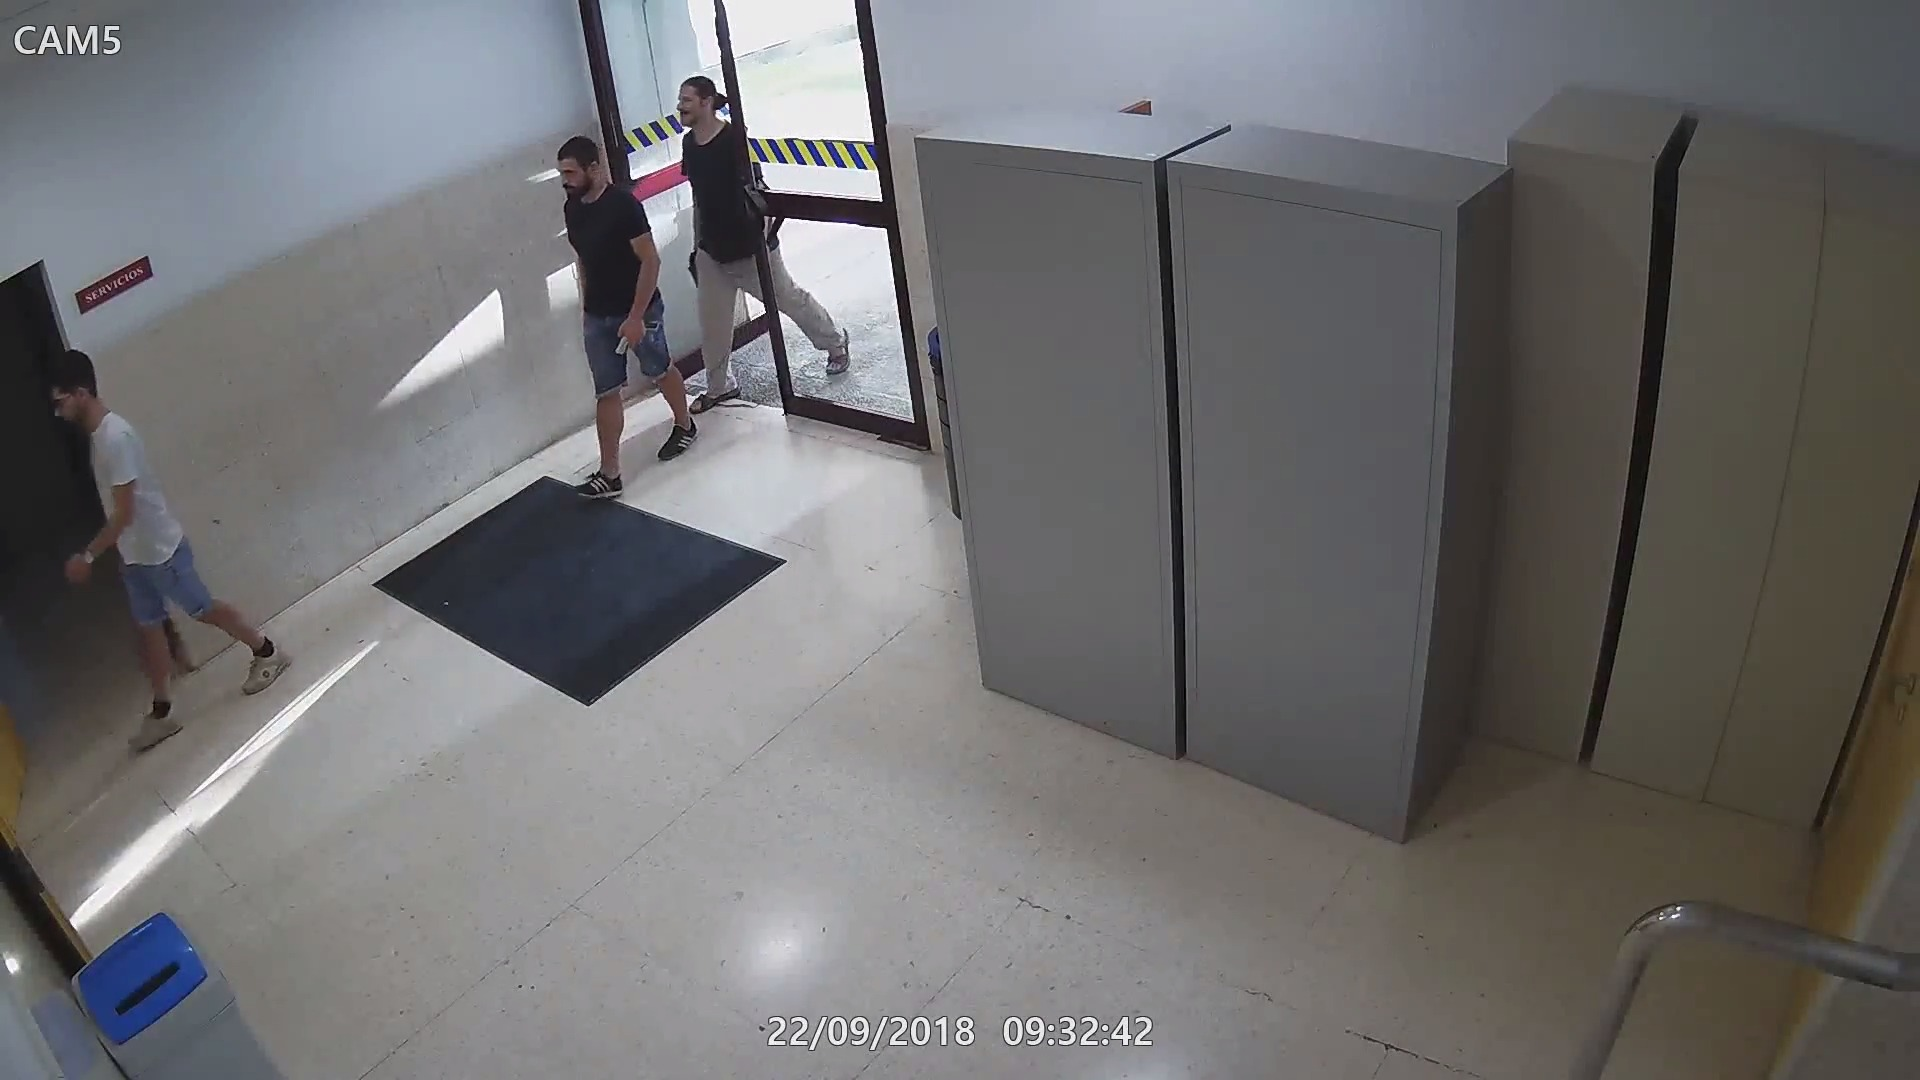Handgun: (613, 315, 659, 356)
